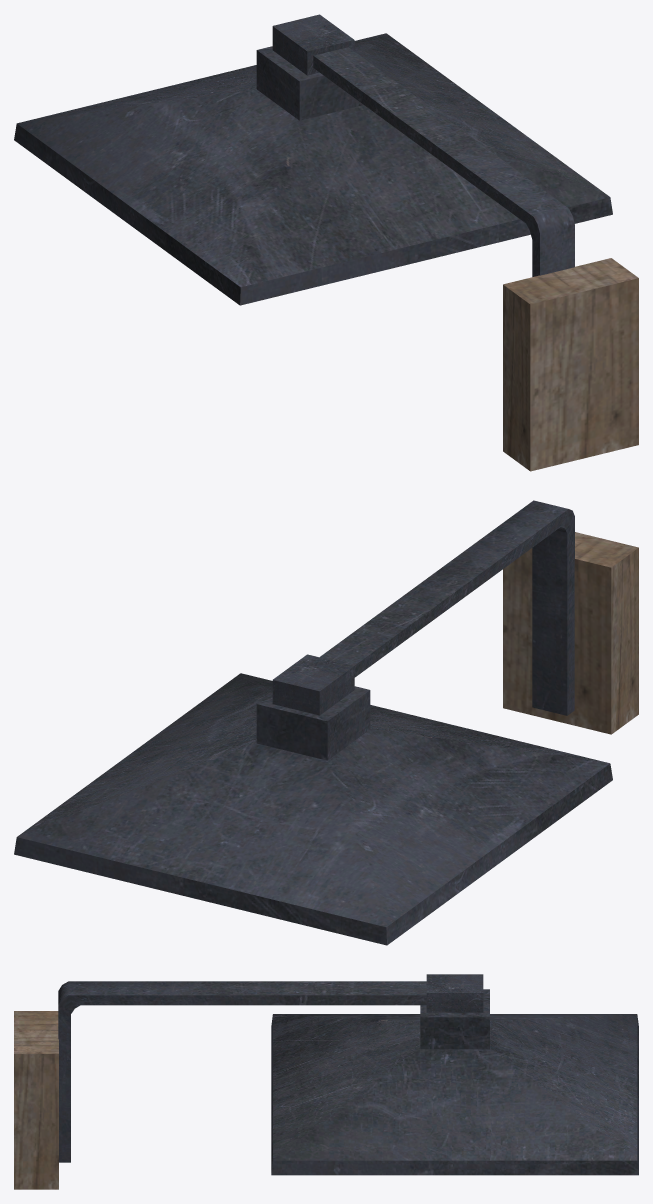
File: Prop_Dd02.glb
3 views of the same model, one above another, from view 1: azimuth 30°, elevation 25°; view 2: azimuth 150°, elevation 25°; view 3: azimuth 270°, elevation 25° (orthographic). The views are drawn at different scales.
Parts seen in each view (by area): view 1: xiutz_dd_02; view 2: xiutz_dd_02; view 3: xiutz_dd_02.
Part boxes in pixels (x1=…): xiutz_dd_02: x1=14, y1=14, x2=638, y2=471; xiutz_dd_02: x1=14, y1=500, x2=638, y2=945; xiutz_dd_02: x1=14, y1=974, x2=638, y2=1189.
Bounding box in the file's own units: 0.8983 × 0.522 × 1.6.
Materials: 1 (1 with a texture image).
